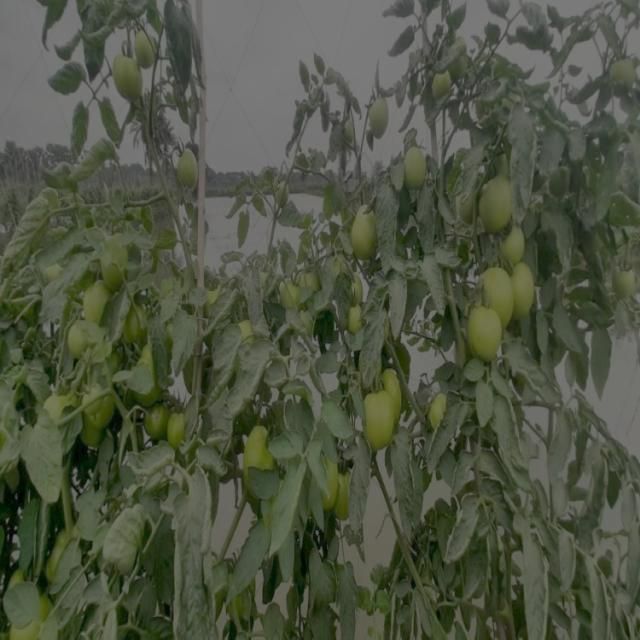tomato: (477, 169, 524, 228), (314, 454, 352, 523), (464, 303, 507, 362), (346, 198, 380, 258), (361, 390, 396, 445), (40, 381, 80, 429), (244, 419, 279, 473), (399, 141, 434, 193), (13, 595, 53, 640), (508, 261, 538, 318), (113, 51, 146, 102), (483, 262, 516, 307), (172, 144, 203, 191), (101, 236, 132, 282), (83, 374, 114, 420), (607, 51, 640, 93), (609, 257, 639, 303), (134, 25, 163, 72), (424, 387, 454, 432), (65, 320, 98, 360), (494, 222, 529, 259), (429, 64, 459, 104), (82, 281, 111, 320), (367, 95, 395, 132), (382, 368, 408, 406), (134, 350, 156, 393), (168, 408, 189, 452), (121, 304, 145, 340), (277, 274, 301, 309), (296, 260, 320, 294), (42, 251, 66, 285), (144, 400, 165, 438), (345, 299, 367, 333), (235, 313, 255, 340), (205, 279, 225, 305), (352, 273, 366, 299)
